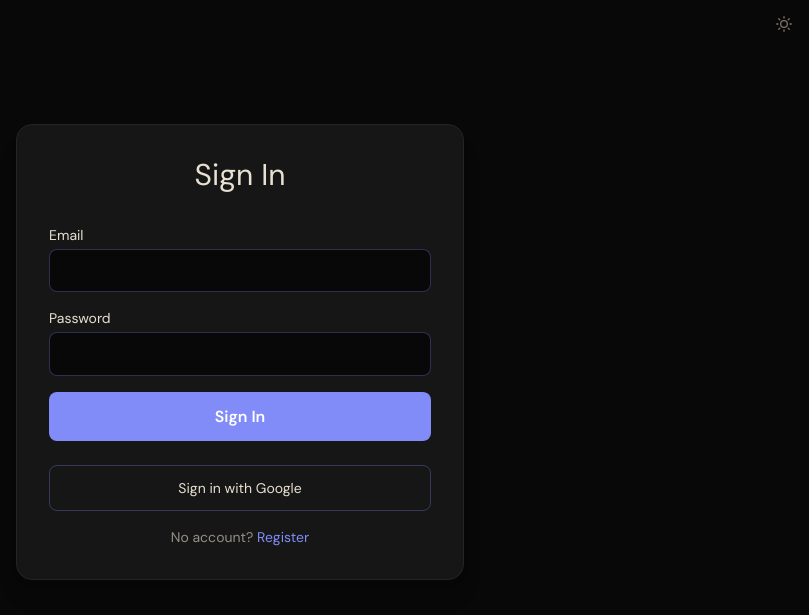
Scenario: Login › shows error message on failed login
The width and height of the screenshot is (809, 615).
Type "bad@test.com" into the field labelled "Email" at (240, 270), box [49,249,431,292]
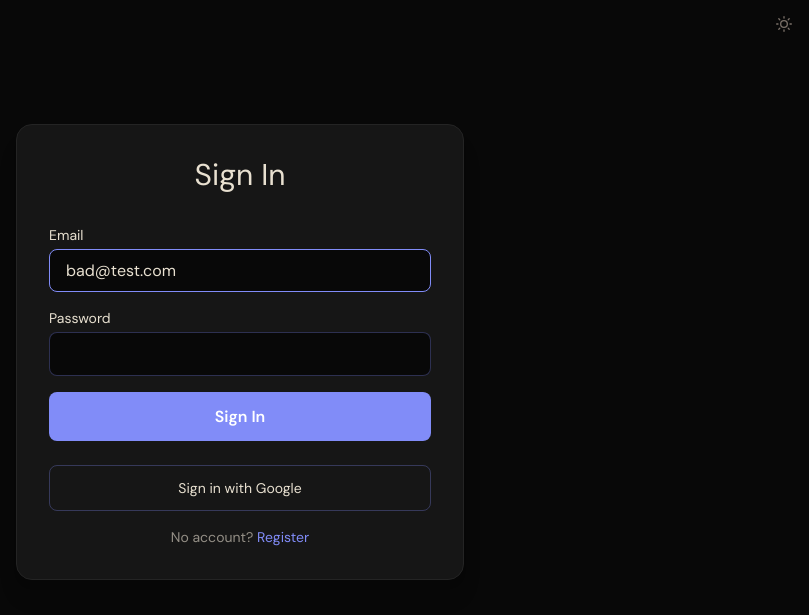
Type "wrong" into the password field labelled "Password" at (240, 354), box [49,332,431,376]
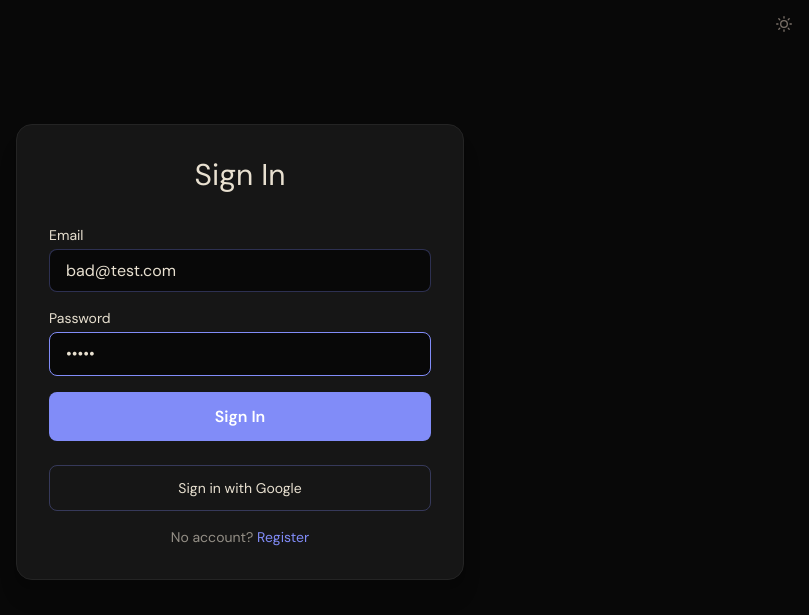
Click the button "Sign In" at (240, 417), box [49,392,431,441]
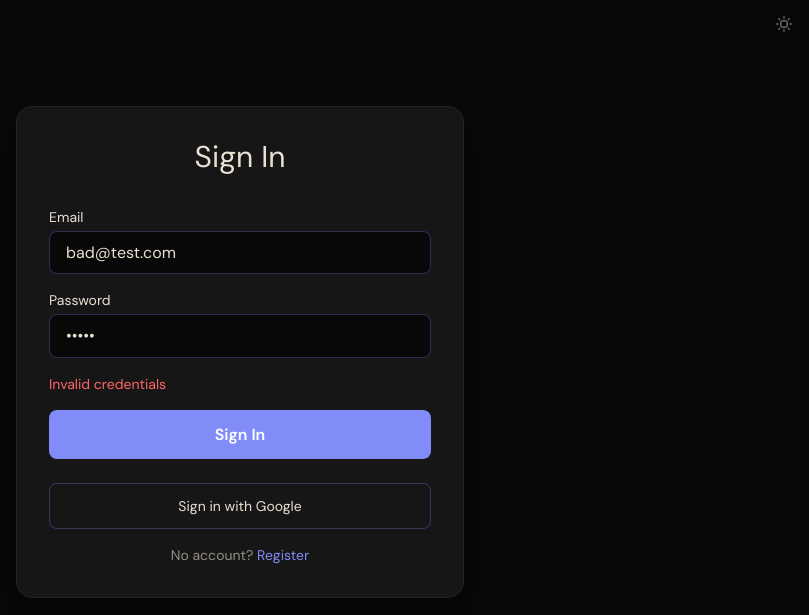
Now the text "Invalid credentials" is shown, box [49,375,166,393]
